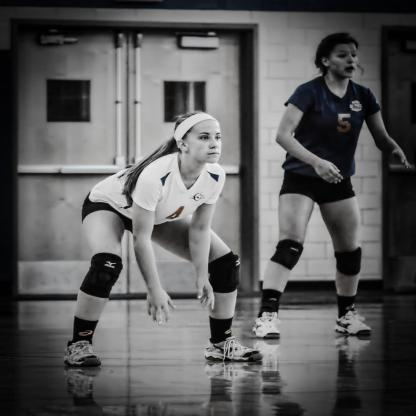face: (192, 121, 222, 165), (332, 43, 359, 78)
